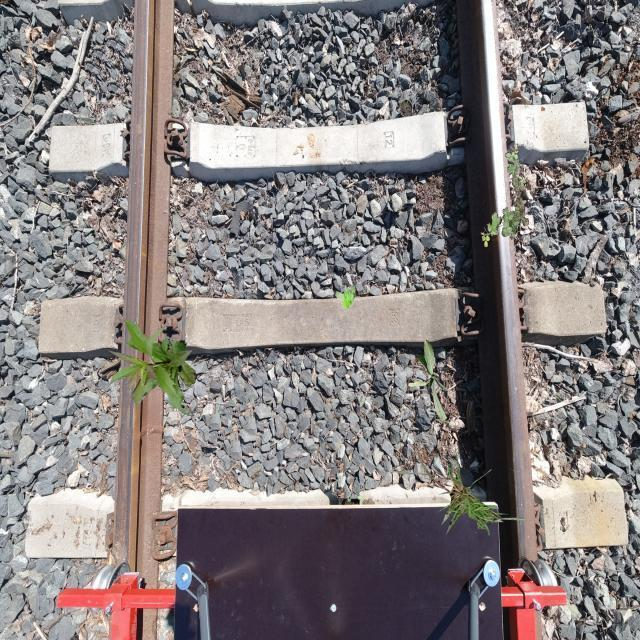Plant: (394, 448, 538, 538), (107, 319, 196, 416), (481, 144, 530, 248), (408, 339, 448, 422), (335, 285, 356, 310)
